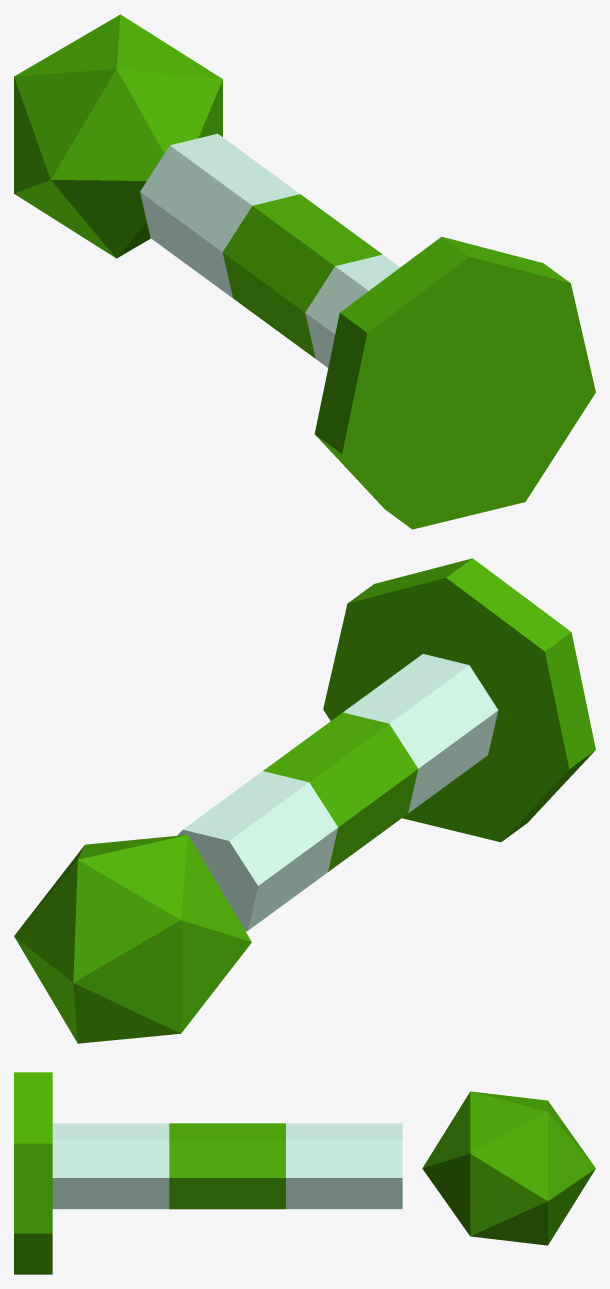
The model's file is Bollardactive.fbx.
3 renders of one model, top to bottom at view 1: azimuth 30°, elevation 25°; view 2: azimuth 150°, elevation 25°; view 3: azimuth 270°, elevation 25°, orthographic. The views are drawn at different scales.
Visible parts, largest first — view 1: Bollardactive; view 2: Bollardactive; view 3: Bollardactive.
Part boxes in pixels (bbox=[...]): Bollardactive: bbox=[14, 14, 595, 529]; Bollardactive: bbox=[14, 558, 595, 1043]; Bollardactive: bbox=[14, 1072, 595, 1274].
Bounding box in the file's own units: 1.2 × 1.17 × 3.37.
